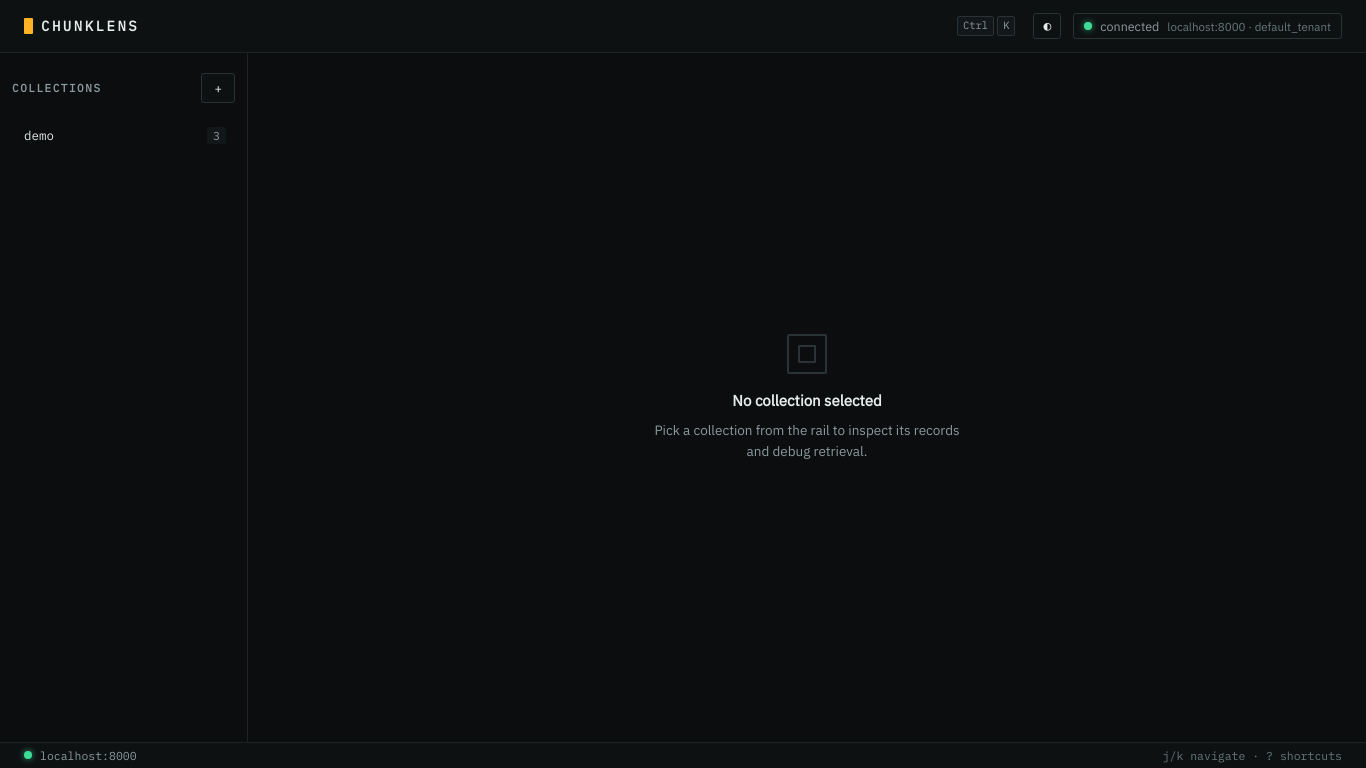
the rail add menu opens New and Import as modals
Click the button named "add collection" at point(218, 88), box x1=202 y1=73 x2=235 y2=103
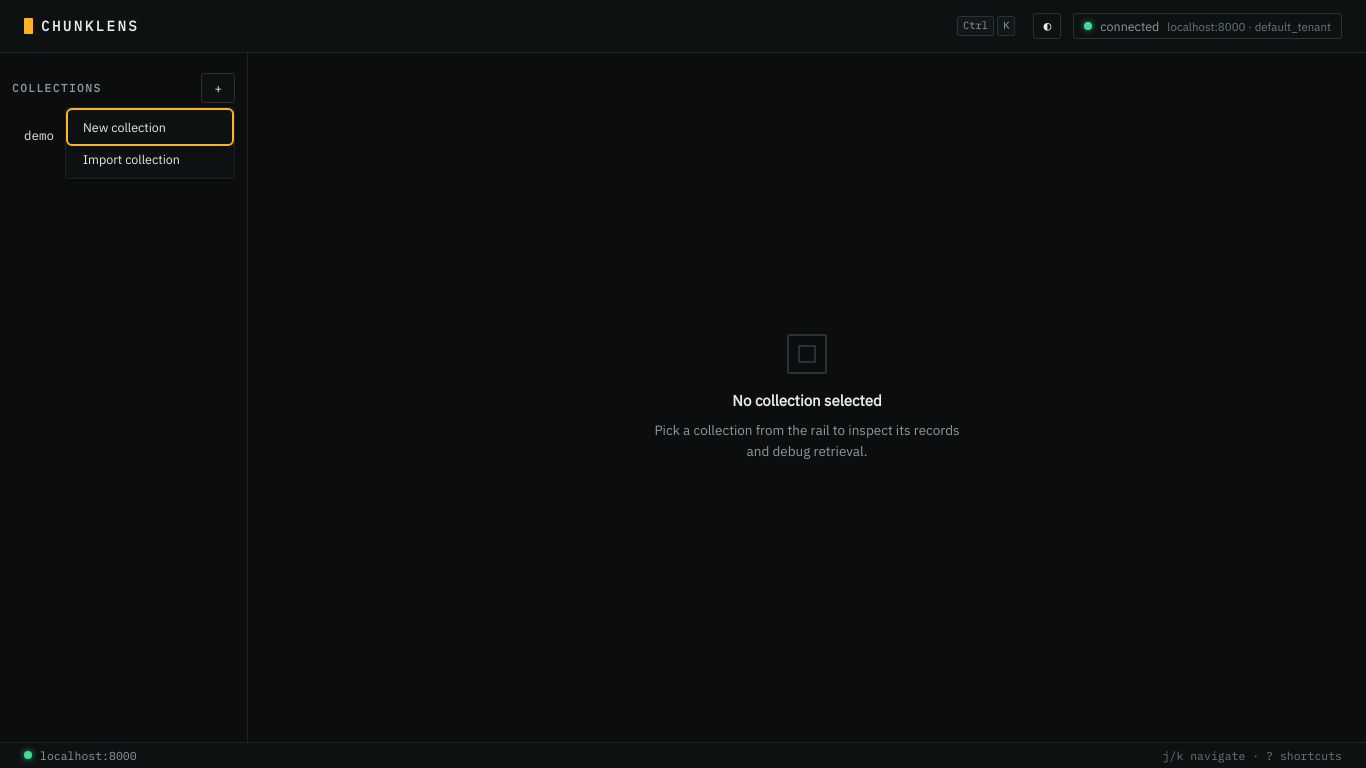
Click the menu item "New collection" at point(150, 127), box x1=70 y1=112 x2=230 y2=142
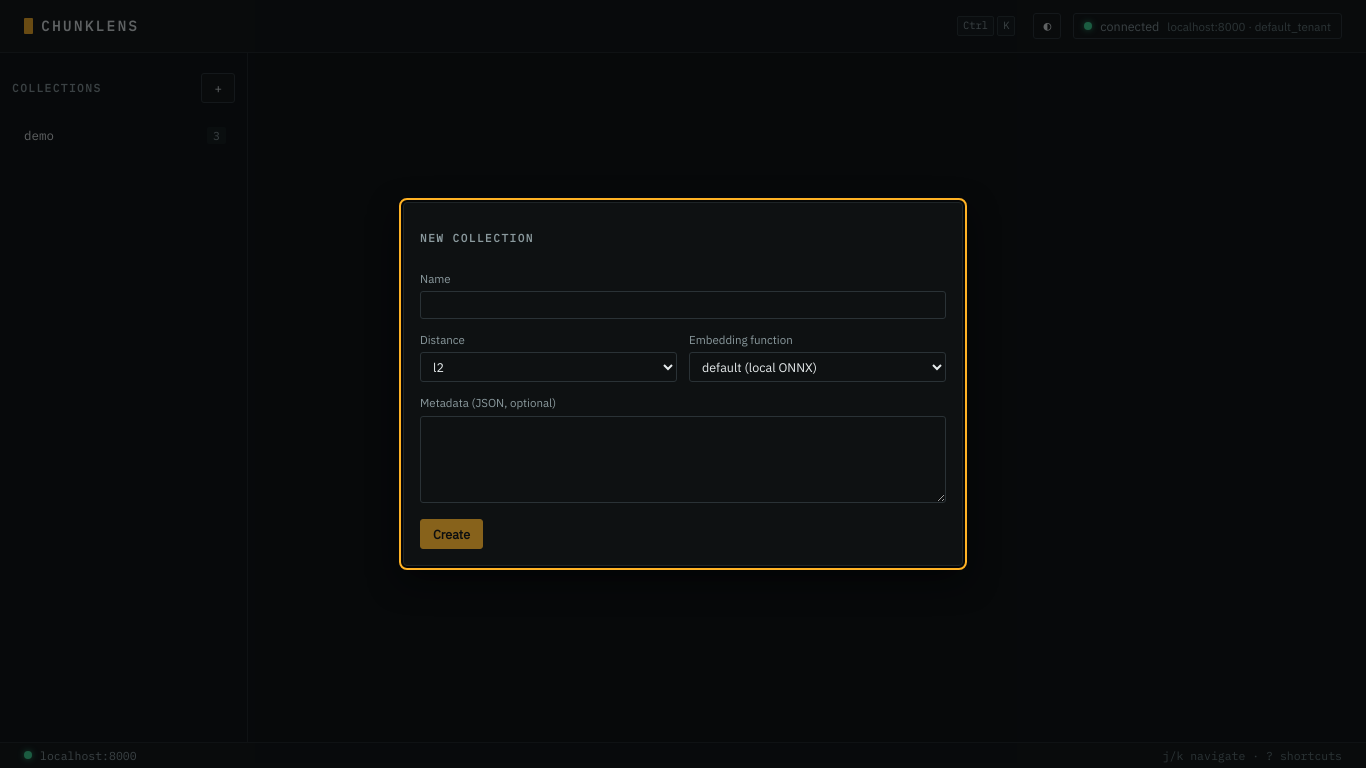
Expected: the dialog "New collection" is shown, x1=403 y1=202 x2=963 y2=566
Press Escape
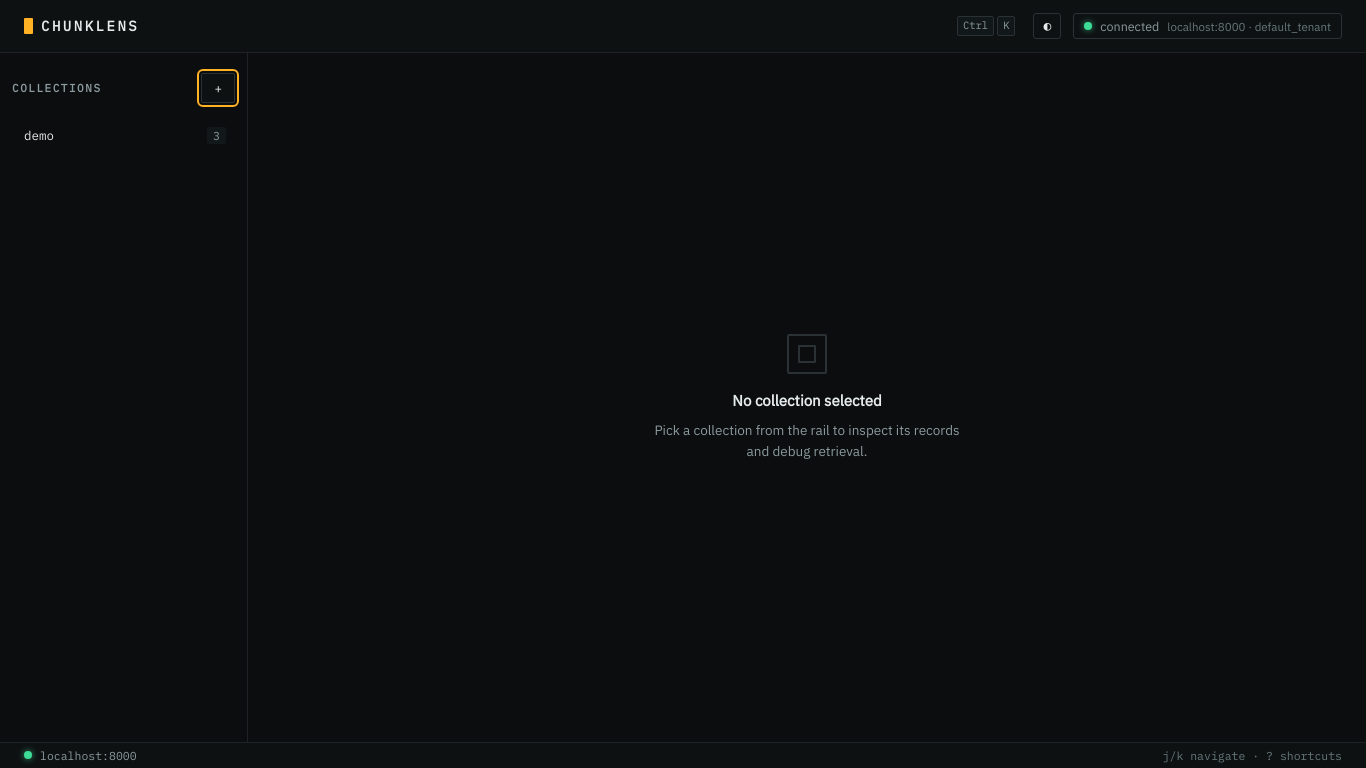
Expected: the dialog is gone
Click the button named "add collection" at point(218, 88), box x1=202 y1=73 x2=235 y2=103
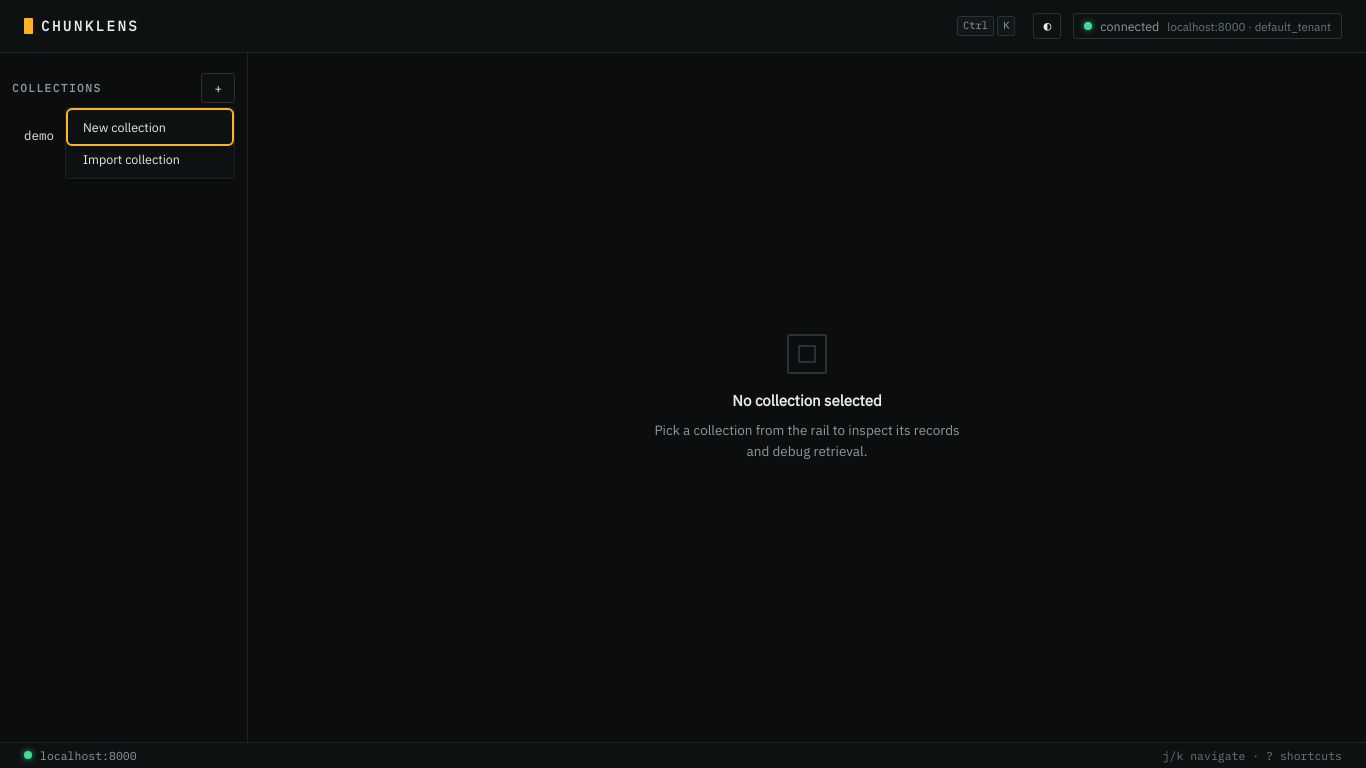
Click the menu item "Import collection" at point(150, 159), box x1=70 y1=144 x2=230 y2=174
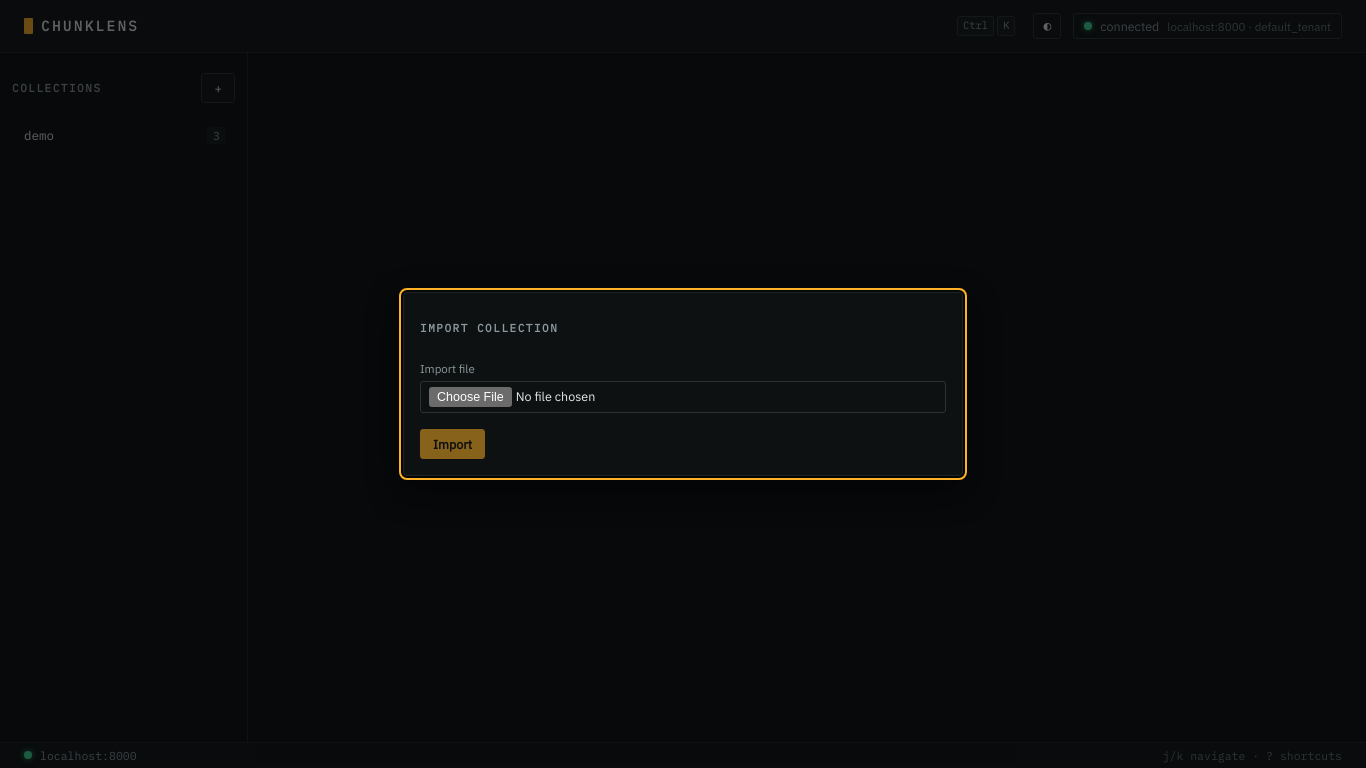
Expected: the dialog "Import collection Import file Import" is shown, x1=403 y1=292 x2=963 y2=476
